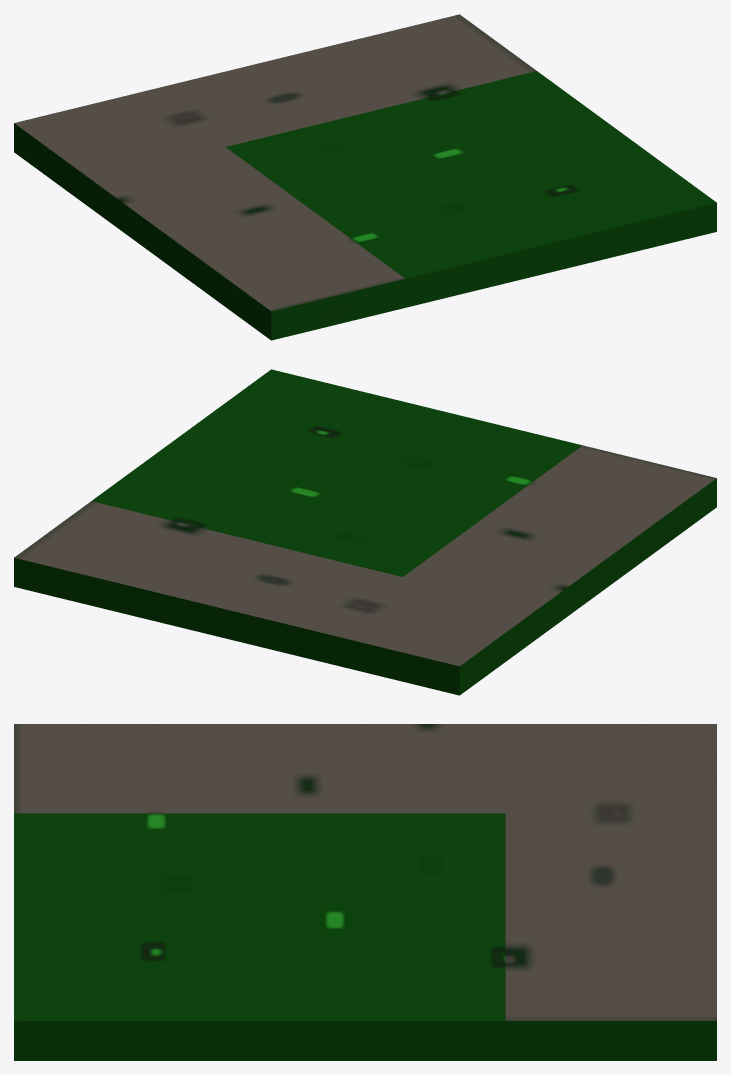
The model's file is sidewalk_8x8__outer_corner_00.glb.
3 renders of one model, top to bottom at view 1: azimuth 30°, elevation 25°; view 2: azimuth 150°, elevation 25°; view 3: azimuth 270°, elevation 25°, orthographic. The views are drawn at different scales.
Visible parts, largest first — view 1: sidewalk_8x8_outer_corner_00; view 2: sidewalk_8x8_outer_corner_00; view 3: sidewalk_8x8_outer_corner_00.
Part boxes in pixels (bbox=[...]): sidewalk_8x8_outer_corner_00: bbox=[14, 14, 716, 340]; sidewalk_8x8_outer_corner_00: bbox=[14, 369, 716, 695]; sidewalk_8x8_outer_corner_00: bbox=[14, 724, 716, 1060].
Size of what is drawn, in the model's own units: 8 by 0.5 by 8.
1 material, 1 textured.
